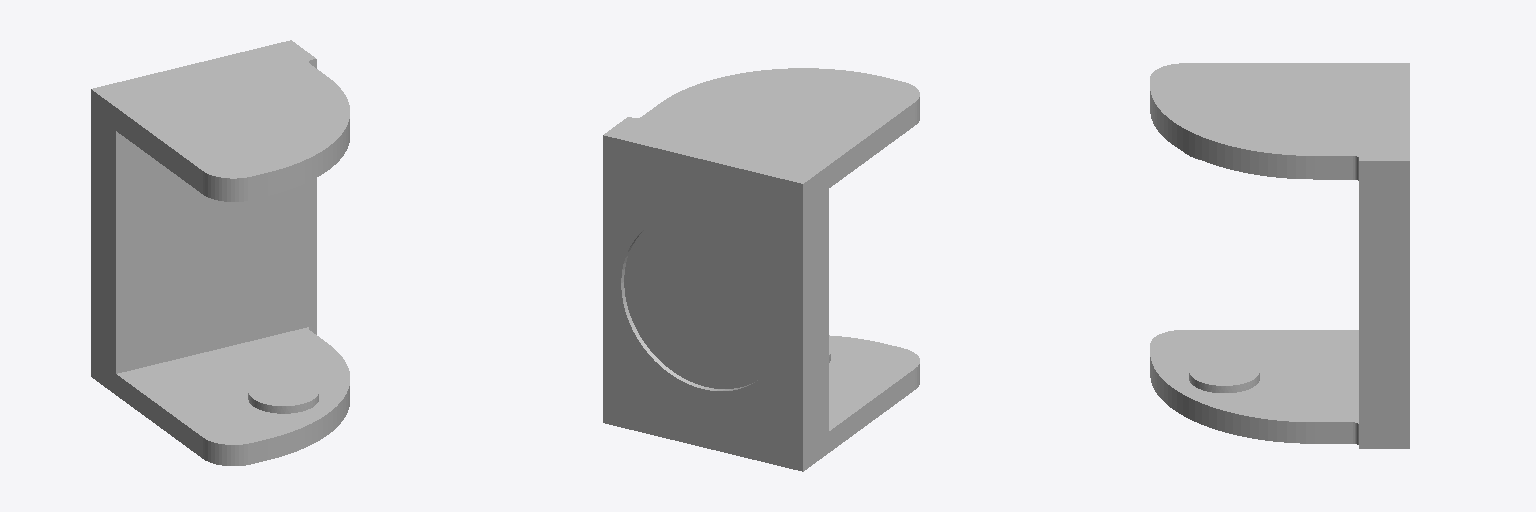
3 views of the same model, side by side, from view 1: azimuth 30°, elevation 25°; view 2: azimuth 150°, elevation 25°; view 3: azimuth 270°, elevation 25° (orthographic).
Visible parts, largest first — view 1: link_0.0; view 2: link_0.0; view 3: link_0.0.
Part boxes in pixels (left/top/right/bottom): link_0.0: left=91, top=40, right=349, bottom=465; link_0.0: left=603, top=68, right=919, bottom=471; link_0.0: left=1150, top=63, right=1409, bottom=448.
Size of the model in its own units: 0.0196 by 0.0269 by 0.022.